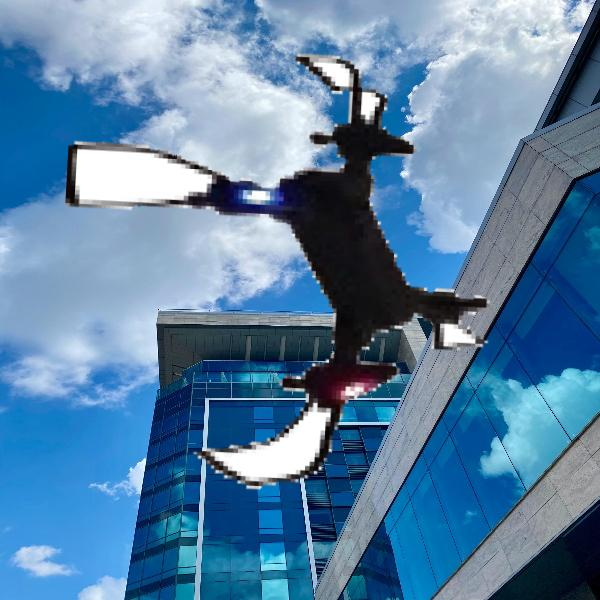drone: (63, 44, 517, 498)
